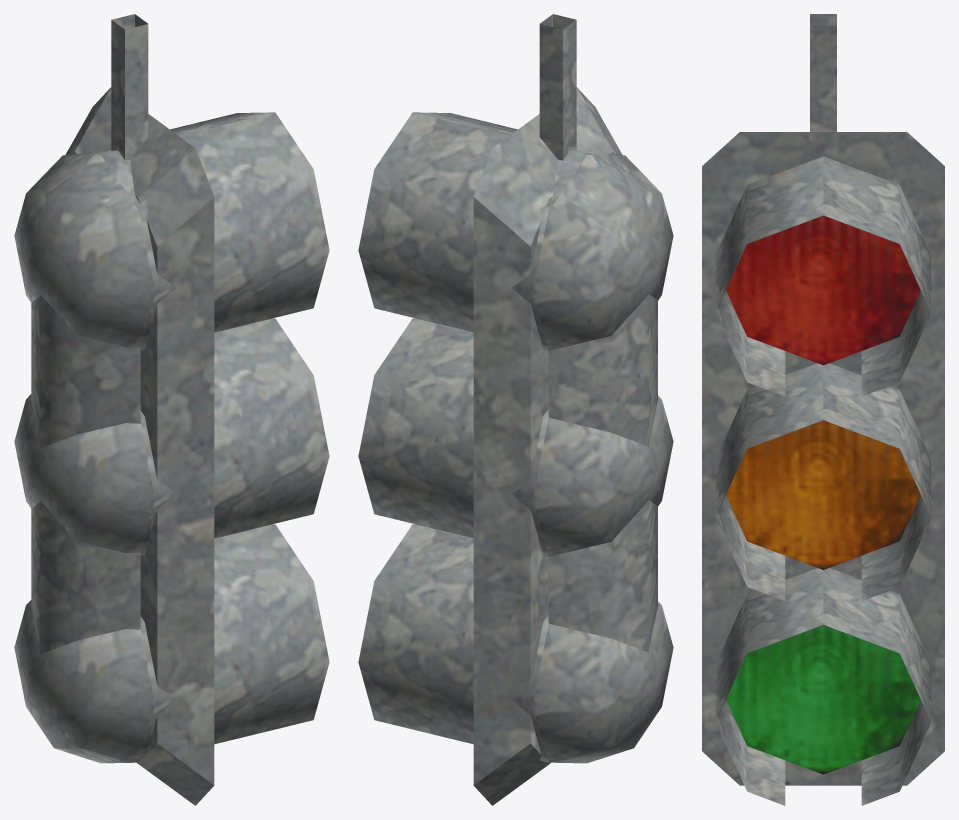
The model's file is Traffic-LightA.fbx.
3 views of the same model, side by side, from view 1: azimuth 30°, elevation 25°; view 2: azimuth 150°, elevation 25°; view 3: azimuth 270°, elevation 25° (orthographic).
Visible parts, largest first — view 1: Traffic-LightA; view 2: Traffic-LightA; view 3: Traffic-LightA.
Part boxes in pixels (left/top/right/bottom): Traffic-LightA: left=14, top=14, right=329, bottom=805; Traffic-LightA: left=358, top=14, right=673, bottom=805; Traffic-LightA: left=702, top=14, right=944, bottom=805.
Size of the model in its own units: 51.88 by 154 by 45.
